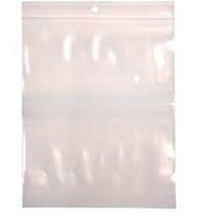plastic_bag: (16, 0, 181, 213)
